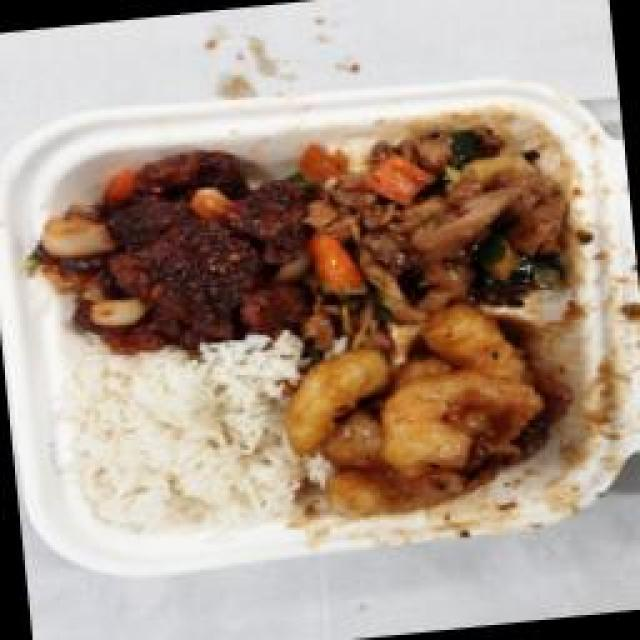Beijing Beef: (22, 130, 320, 365)
Honey Walnut Shrimp: (273, 298, 568, 531)
Kung Pao Chicken: (287, 112, 595, 340)
White Steamed Rice: (58, 335, 301, 540)
